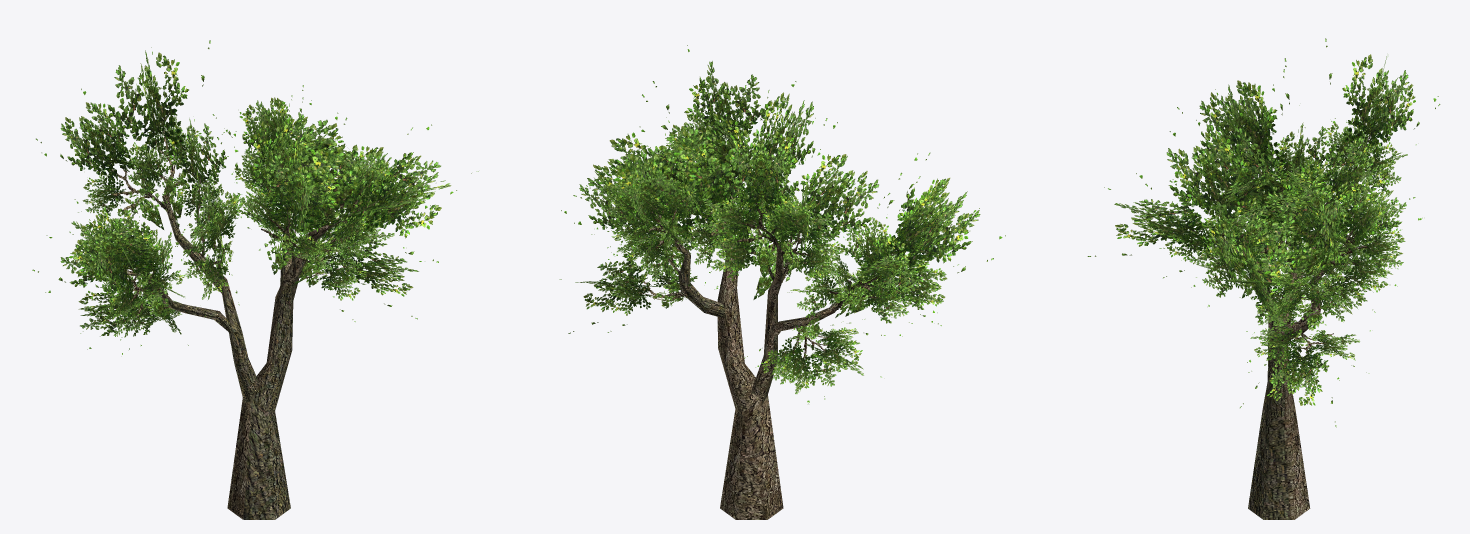
The model's file is roble_d.glb.
3 renders of one model, left to right at view 1: azimuth 30°, elevation 25°; view 2: azimuth 150°, elevation 25°; view 3: azimuth 270°, elevation 25°, orthographic. The views are drawn at different scales.
Visible parts, largest first — view 1: Copa, Tronco; view 2: Copa, Tronco; view 3: Copa, Tronco.
Boxes of the visible parts, x1,y1,x2,y2 form: Copa: [32, 40, 478, 354]; Tronco: [108, 127, 378, 519]; Copa: [559, 45, 1005, 403]; Tronco: [626, 139, 915, 519]; Copa: [1087, 38, 1440, 427]; Tronco: [1190, 133, 1376, 519].
Size of the model in its own units: 12.11 by 11.59 by 9.28.
2 materials, 2 textured.
